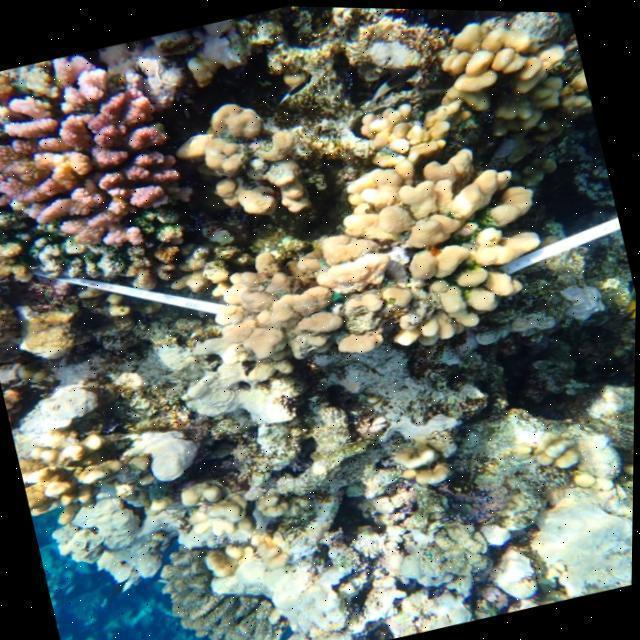Bleached Coral: (217, 520, 390, 640), (515, 456, 635, 603), (2, 355, 133, 463), (537, 255, 633, 352), (112, 402, 210, 494), (174, 351, 296, 419), (348, 16, 424, 84)
Healthy Coral: (17, 114, 181, 251)
